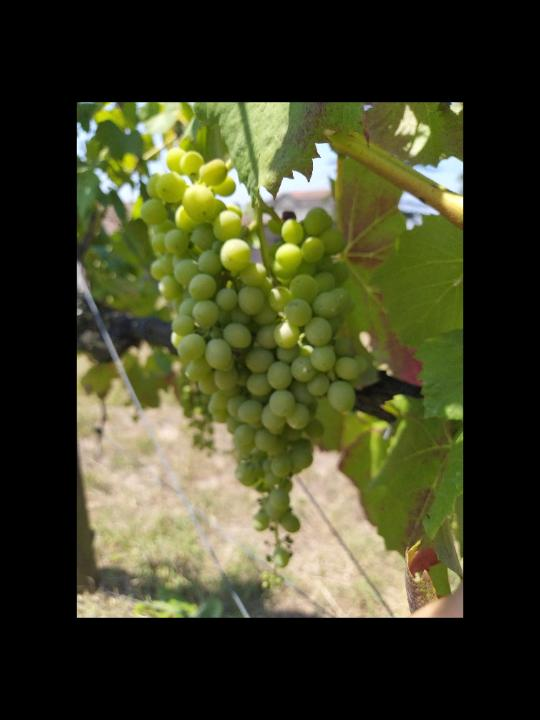grape: (140, 147, 368, 591)
